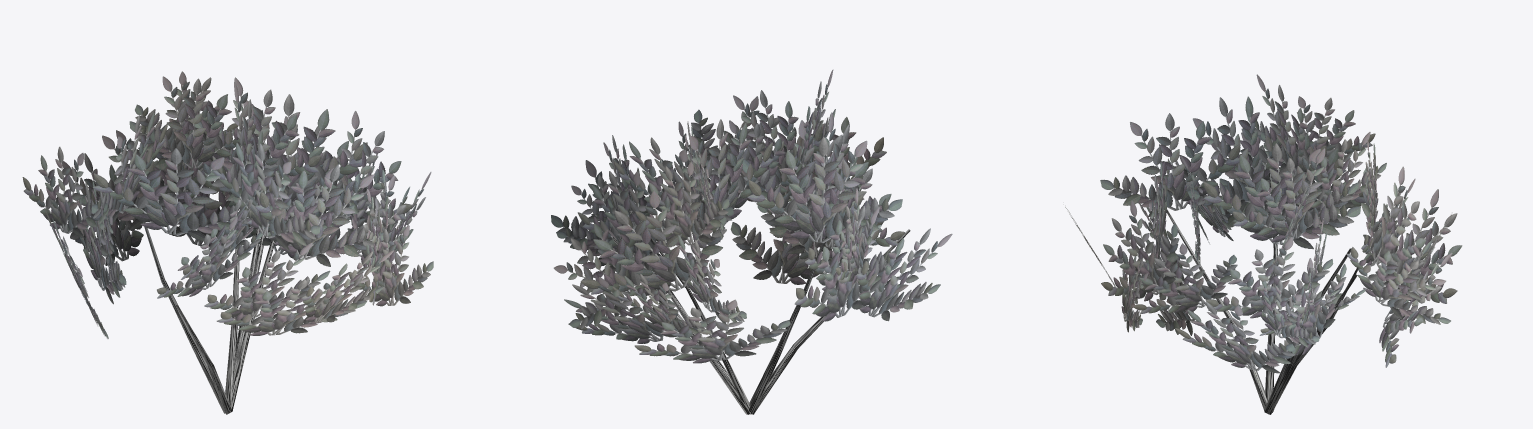
Rendered from bush_broad_l0.gltf.
3 renders of one model, left to right at view 1: azimuth 30°, elevation 25°; view 2: azimuth 150°, elevation 25°; view 3: azimuth 270°, elevation 25°, orthographic. The views are drawn at different scales.
Parts seen in each view (by area): view 1: bush_broad_l0; view 2: bush_broad_l0; view 3: bush_broad_l0.
Boxes of the visible parts, left/top/right/bottom form: bush_broad_l0: left=22, top=71, right=433, bottom=414; bush_broad_l0: left=551, top=69, right=952, bottom=414; bush_broad_l0: left=1065, top=74, right=1462, bottom=414.
Size of the model in its own units: 2.93 by 2.46 by 3.13.
Materials: 2 (2 with a texture image).
